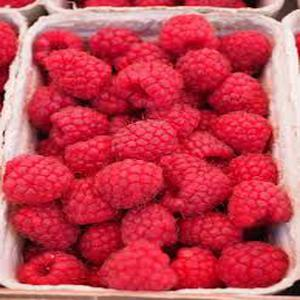raspb: (2, 31, 286, 292)
